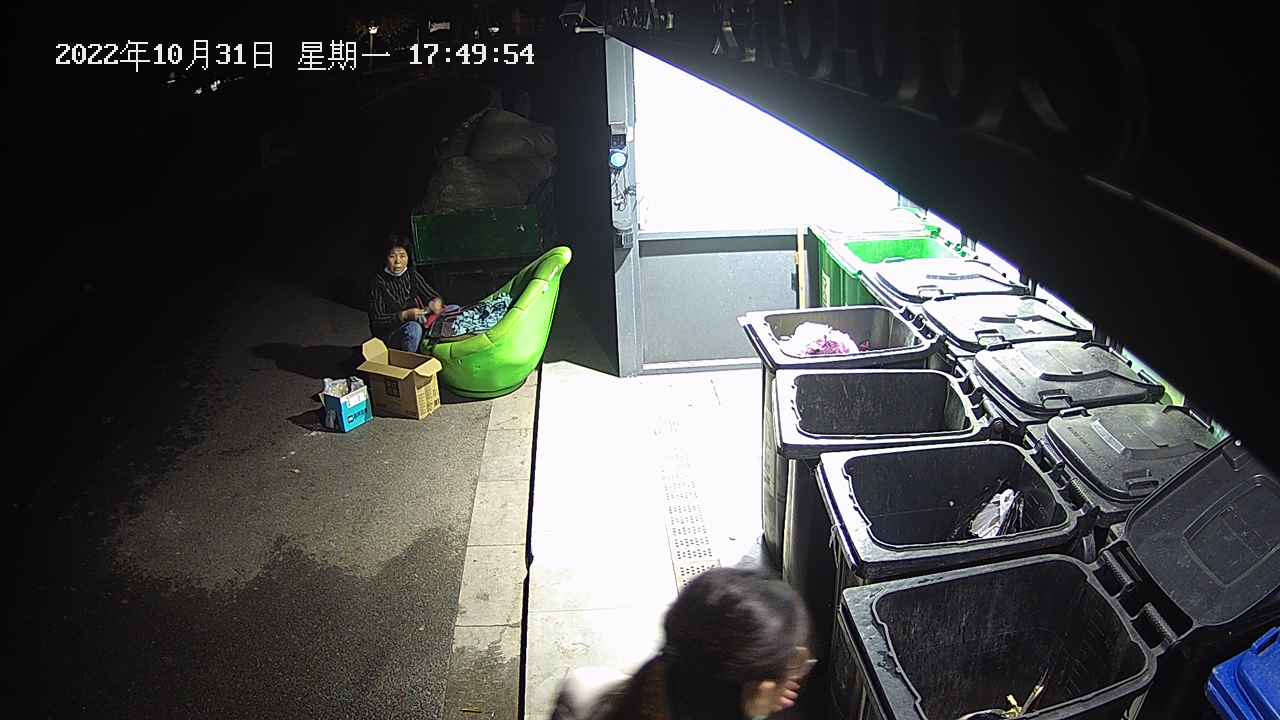person: (546, 565, 820, 720), (368, 234, 447, 352)
zhizhipin: (355, 336, 443, 421), (315, 370, 375, 435)
